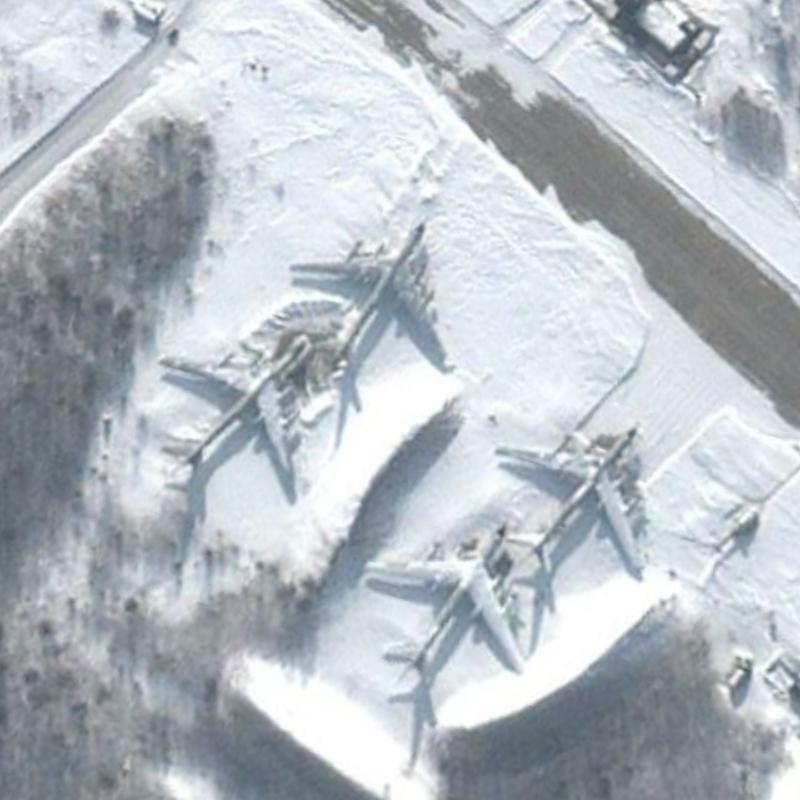A17: (283, 215, 457, 381), (357, 515, 527, 683), (488, 420, 652, 582), (154, 330, 315, 485)
